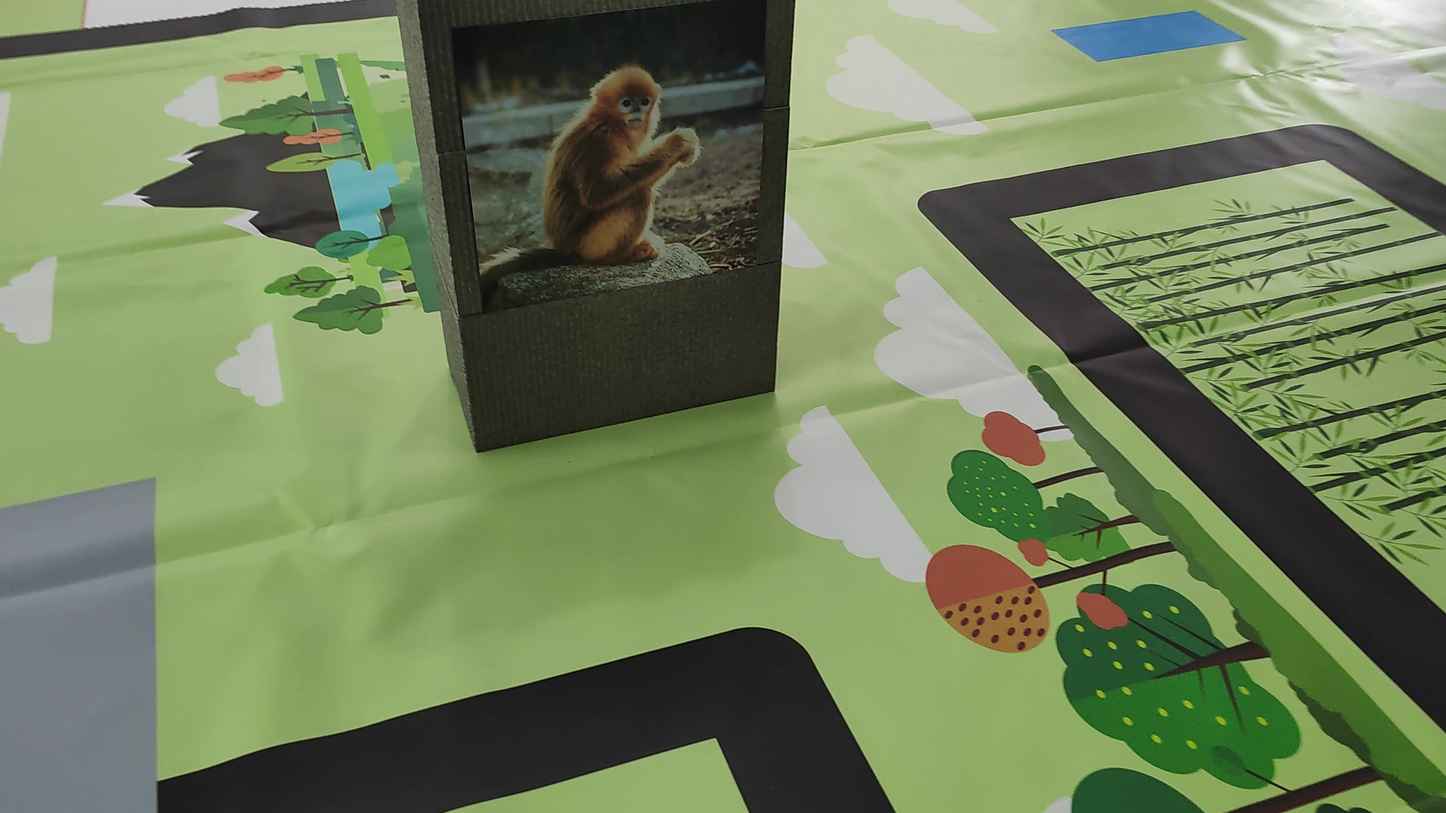monkey: (479, 61, 721, 314)
